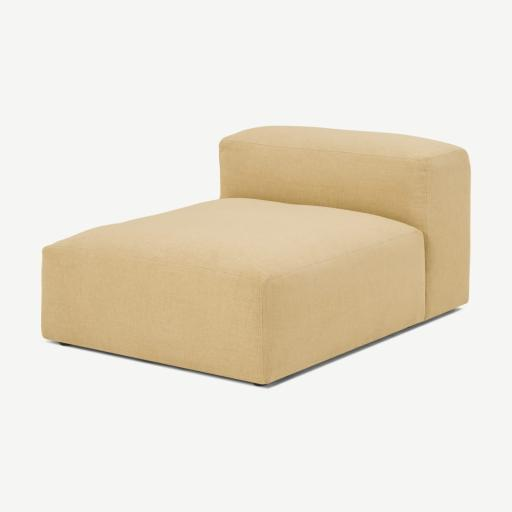back_cushion: (220, 126, 470, 321)
base: (42, 238, 422, 384)
one-seater: (41, 127, 470, 385)
seat_cushion: (54, 198, 422, 281)
